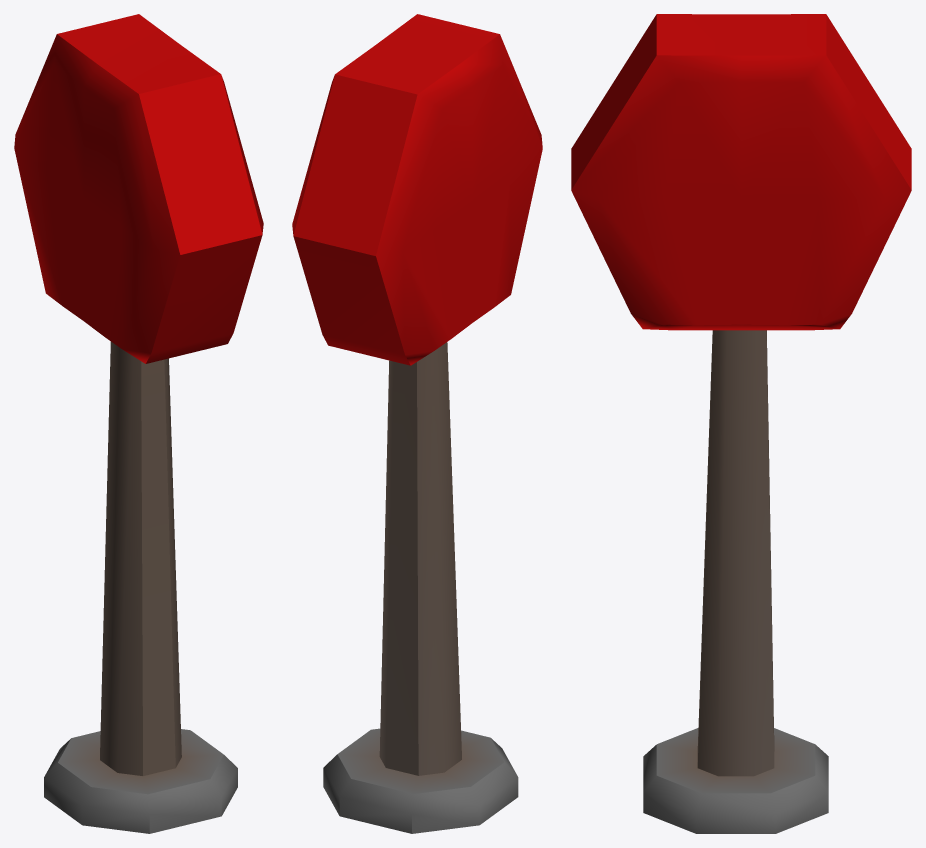
File: sign_danger.glb
3 views of the same model, side by side, from view 1: azimuth 30°, elevation 25°; view 2: azimuth 150°, elevation 25°; view 3: azimuth 270°, elevation 25° (orthographic). The views are drawn at different scales.
Parts seen in each view (by area): view 1: Object_3; view 2: Object_3; view 3: Object_3.
Boxes of the visible parts, <box> form: Object_3: <box>14,14,263,833</box>; Object_3: <box>292,14,542,833</box>; Object_3: <box>571,14,911,833</box>.
Bounding box in the file's own units: 0.319 × 1.44 × 0.5858.
